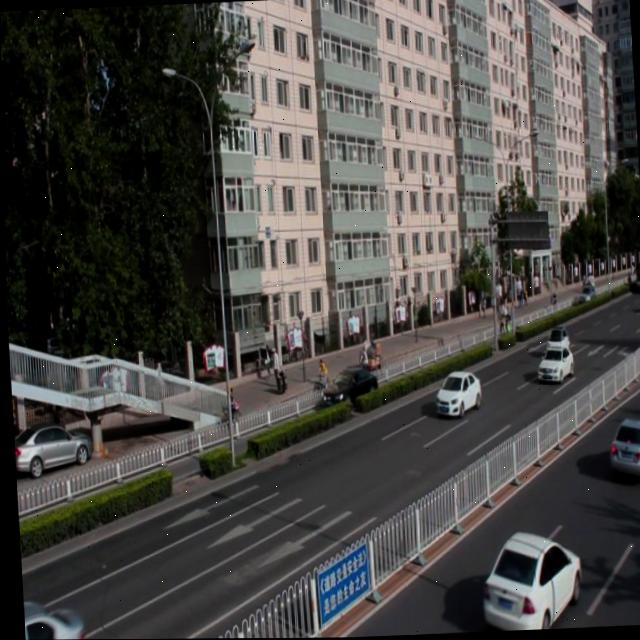car: (475, 526, 581, 632), (20, 595, 83, 640), (430, 366, 479, 419), (603, 413, 640, 482), (319, 365, 376, 407), (533, 344, 572, 384)
